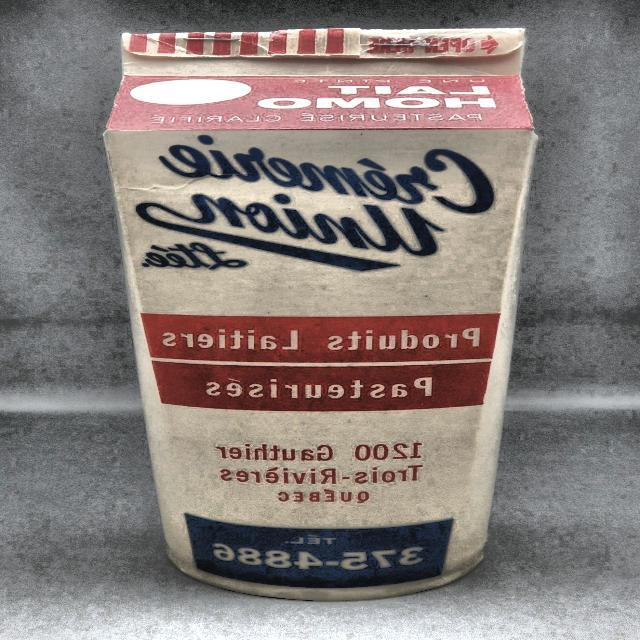cardboard: (101, 28, 540, 600)
